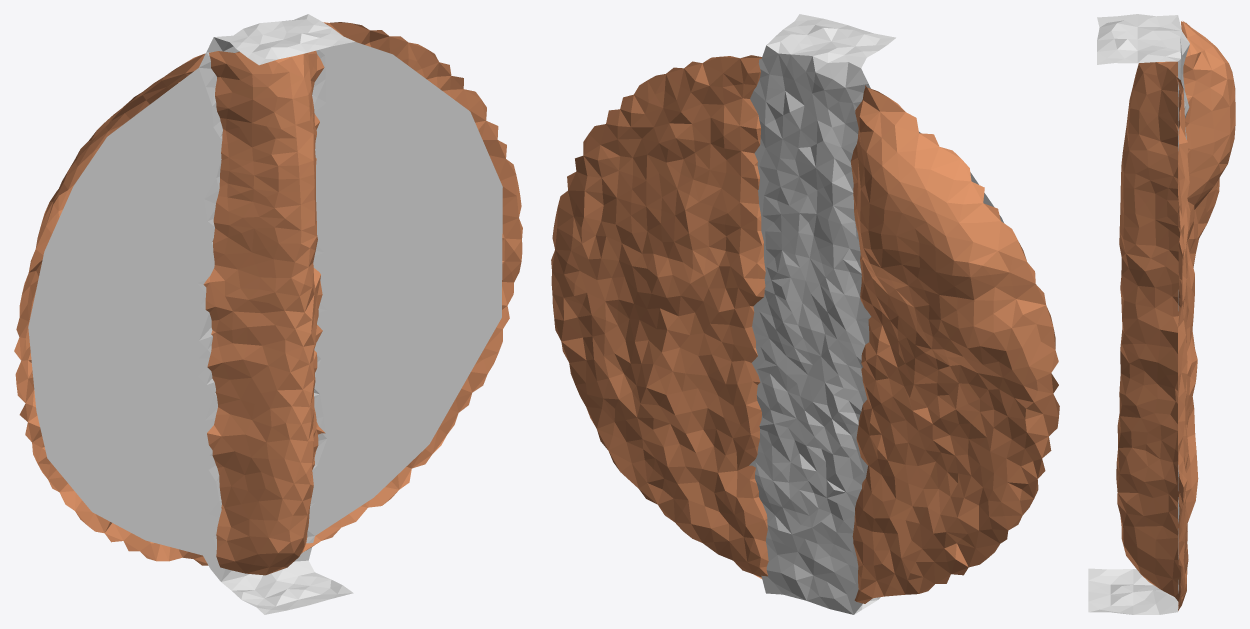
The model's file is World.fbx.
3 renders of one model, left to right at view 1: azimuth 30°, elevation 25°; view 2: azimuth 150°, elevation 25°; view 3: azimuth 270°, elevation 25°, orthographic.
Parts seen in each view (by area): view 1: Water, Ground; view 2: Ground, Water; view 3: Ground, Water.
Boxes of the visible parts, x1,y1,x2,y2 form: Water: (28,14,502,614); Ground: (14,22,522,575); Ground: (551,55,1059,603); Water: (749,14,1003,614); Ground: (1116,21,1235,610); Water: (1088,14,1189,614).
Bounding box in the file's own units: 2000 × 2103 × 499.
